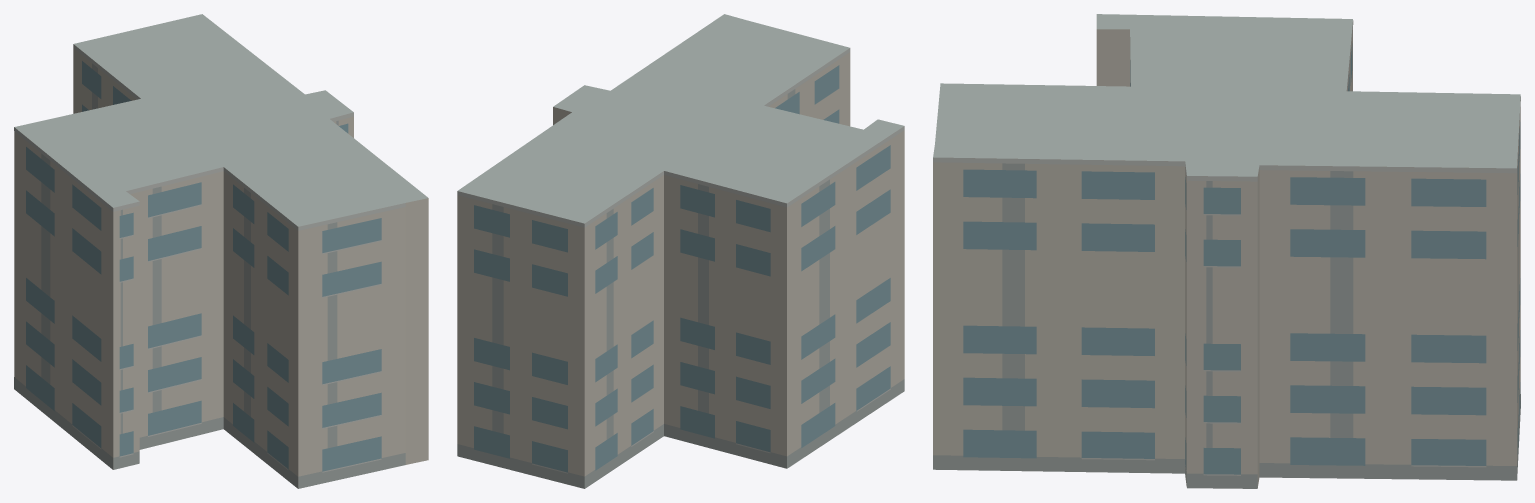
The model's file is survey-upis-32641827.glb.
3 renders of one model, left to right at view 1: azimuth 30°, elevation 25°; view 2: azimuth 150°, elevation 25°; view 3: azimuth 270°, elevation 25°, orthographic. The views are drawn at different scales.
Parts seen in each view (by area): view 1: survey-upis-32641827.tmp; view 2: survey-upis-32641827.tmp; view 3: survey-upis-32641827.tmp.
Boxes of the visible parts, x1,y1,x2,y2 form: survey-upis-32641827.tmp: (14,14,428,488); survey-upis-32641827.tmp: (457,14,904,488); survey-upis-32641827.tmp: (933,14,1520,488).
Bounding box in the file's own units: 17.44 × 15.6 × 26.62.
